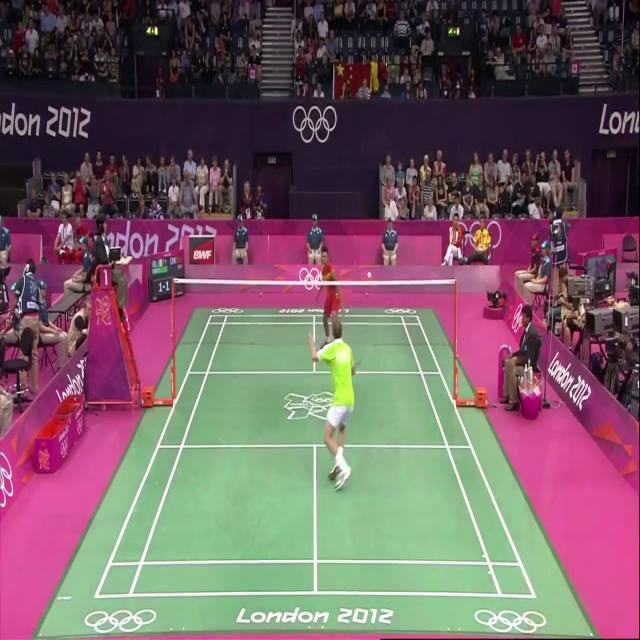Net: (174, 277, 457, 383)
Player1: (306, 321, 357, 509)
Player2: (312, 235, 352, 368)
Shuttlecock: (358, 254, 372, 285)
